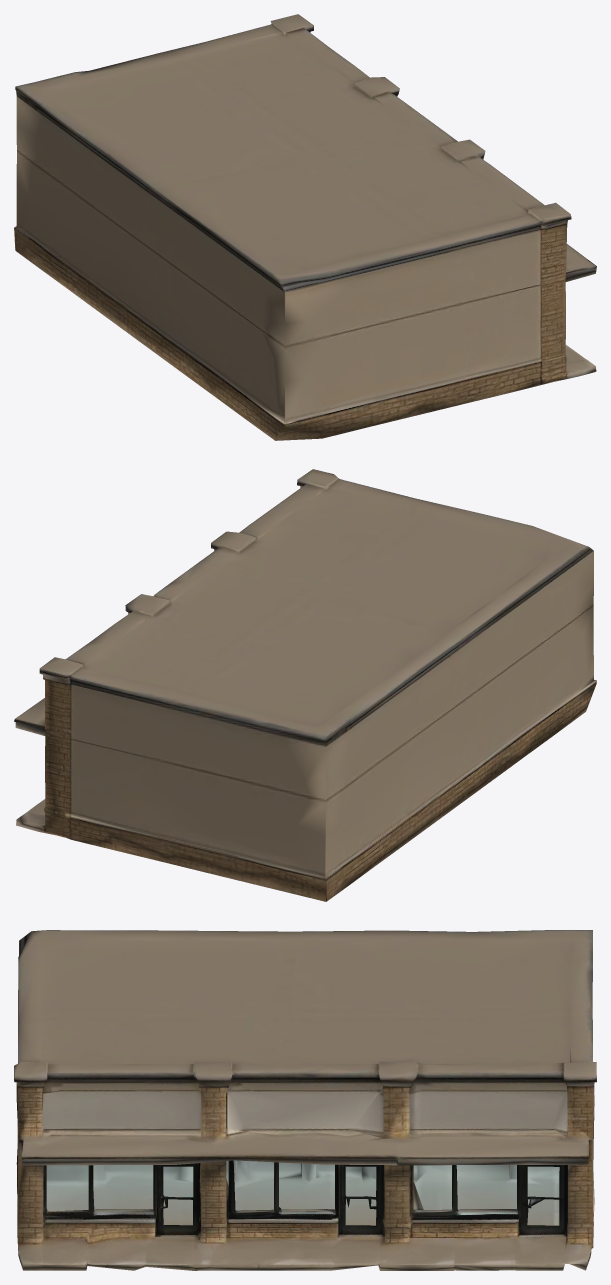
File: plaza_a.glb
The picture shows the model from 3 angles, top to bottom: view 1: azimuth 30°, elevation 25°; view 2: azimuth 150°, elevation 25°; view 3: azimuth 270°, elevation 25°; orthographic projection. The views are drawn at different scales.
Parts seen in each view (by area): view 1: tripo_node_f3ebebc7-123c-4926-b593-54f2a377814c; view 2: tripo_node_f3ebebc7-123c-4926-b593-54f2a377814c; view 3: tripo_node_f3ebebc7-123c-4926-b593-54f2a377814c.
Part boxes in pixels (x1,y1,x2,y2): tripo_node_f3ebebc7-123c-4926-b593-54f2a377814c: (14, 14, 596, 440); tripo_node_f3ebebc7-123c-4926-b593-54f2a377814c: (14, 469, 596, 901); tripo_node_f3ebebc7-123c-4926-b593-54f2a377814c: (14, 930, 596, 1270).
Size of the model in its own units: 0.6671 by 0.3401 by 1.
Materials: 1 (1 with a texture image).
